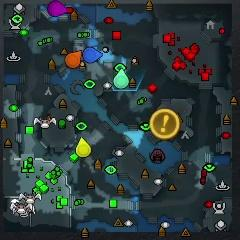Other: (150, 108, 180, 139)
p1: (83, 48, 102, 63)
p2: (113, 69, 129, 89)
p3: (47, 0, 67, 17)
p4: (76, 137, 91, 157)
p5: (65, 50, 82, 68)
